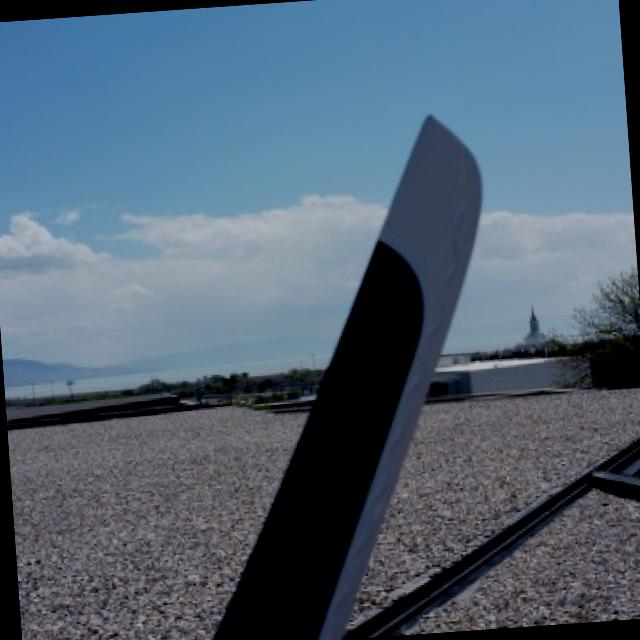healthy: (217, 113, 482, 640)
